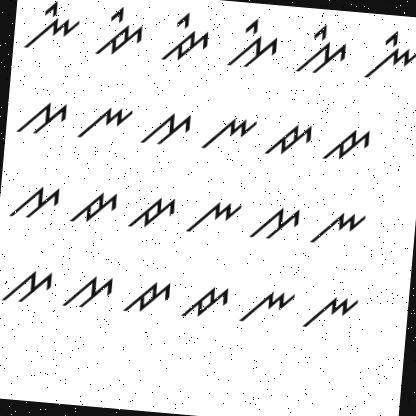ja: (63, 180, 121, 230), (124, 184, 181, 234), (259, 114, 316, 162), (322, 118, 374, 166), (122, 276, 175, 322), (178, 280, 230, 326)
ji: (88, 3, 148, 61), (158, 8, 216, 67)
nya: (73, 94, 137, 145), (183, 194, 245, 246), (200, 108, 260, 158), (310, 205, 372, 252), (236, 286, 298, 332), (300, 290, 362, 335)
nyi: (359, 23, 416, 86), (19, 0, 84, 52)
sa: (9, 89, 71, 142), (7, 170, 66, 223), (137, 102, 196, 152), (247, 198, 304, 248), (0, 260, 56, 310), (59, 268, 117, 316)
si: (224, 14, 284, 74), (294, 18, 352, 80)
